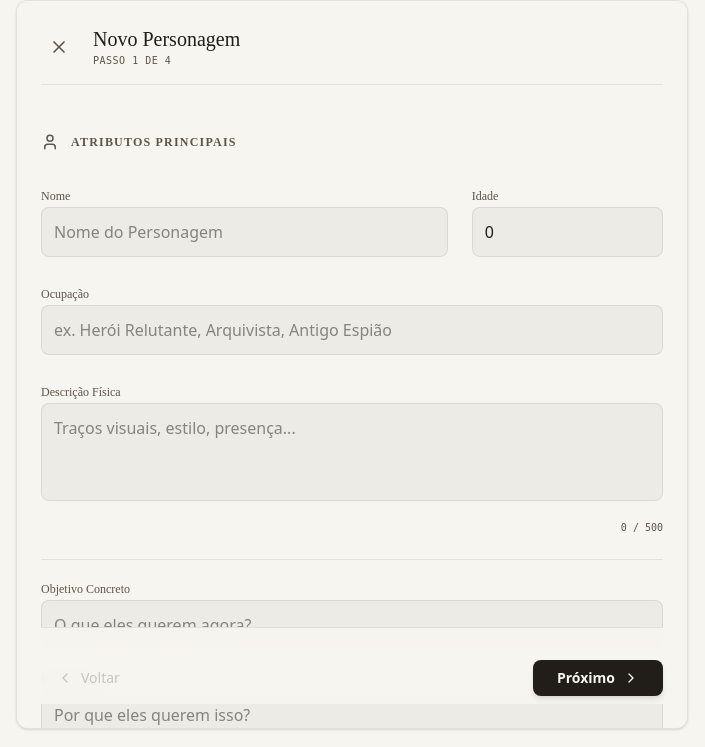
Test: CharacterWizard › should show character counters for textareas
Physical description in Step 1
Type "A tall man" into the text box with placeholder "Traços visuais, estilo, presença...". click: (352, 452)
box: [41, 403, 663, 501]
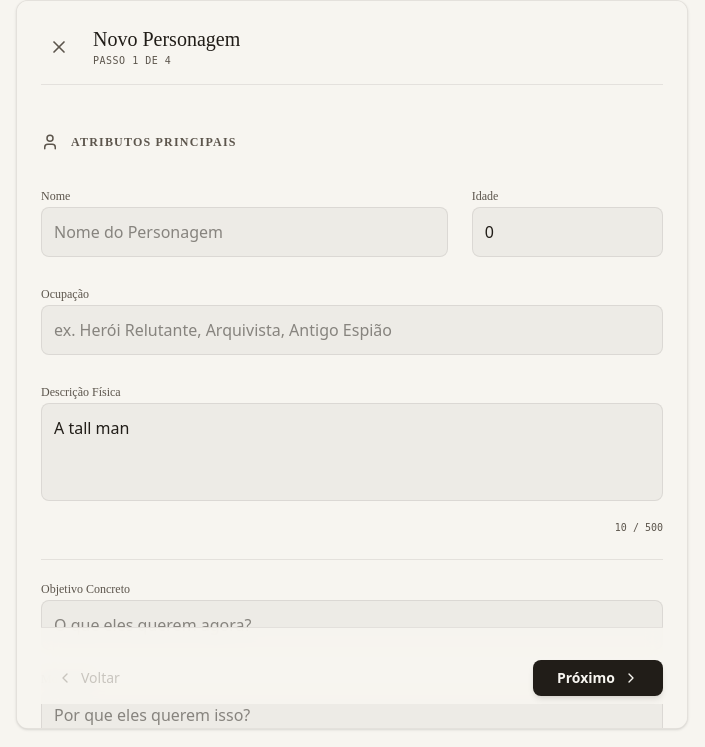
expect the text "10 / 500" is shown: met, box [615, 522, 663, 533]
